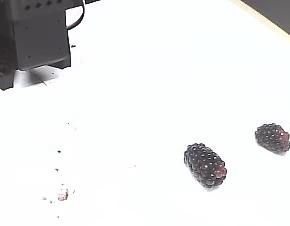berry: (184, 143, 226, 187), (255, 123, 289, 154)
red drouplet: (214, 165, 225, 178), (279, 130, 288, 139)
